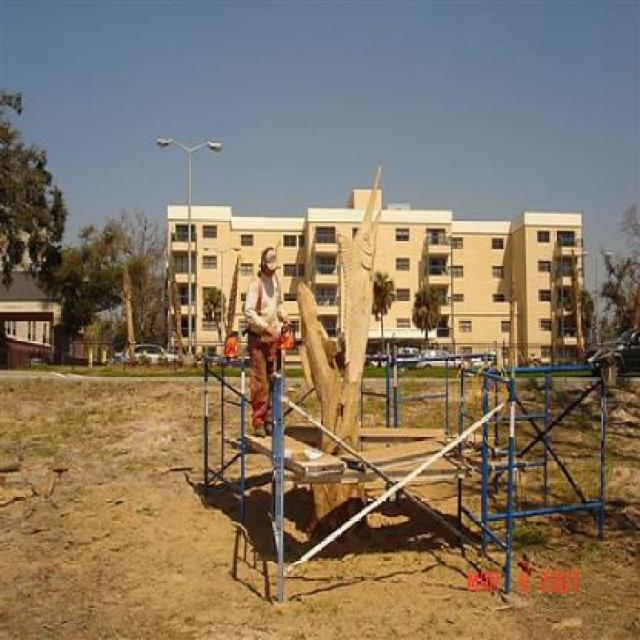Chainsaw: (268, 328, 314, 355)
